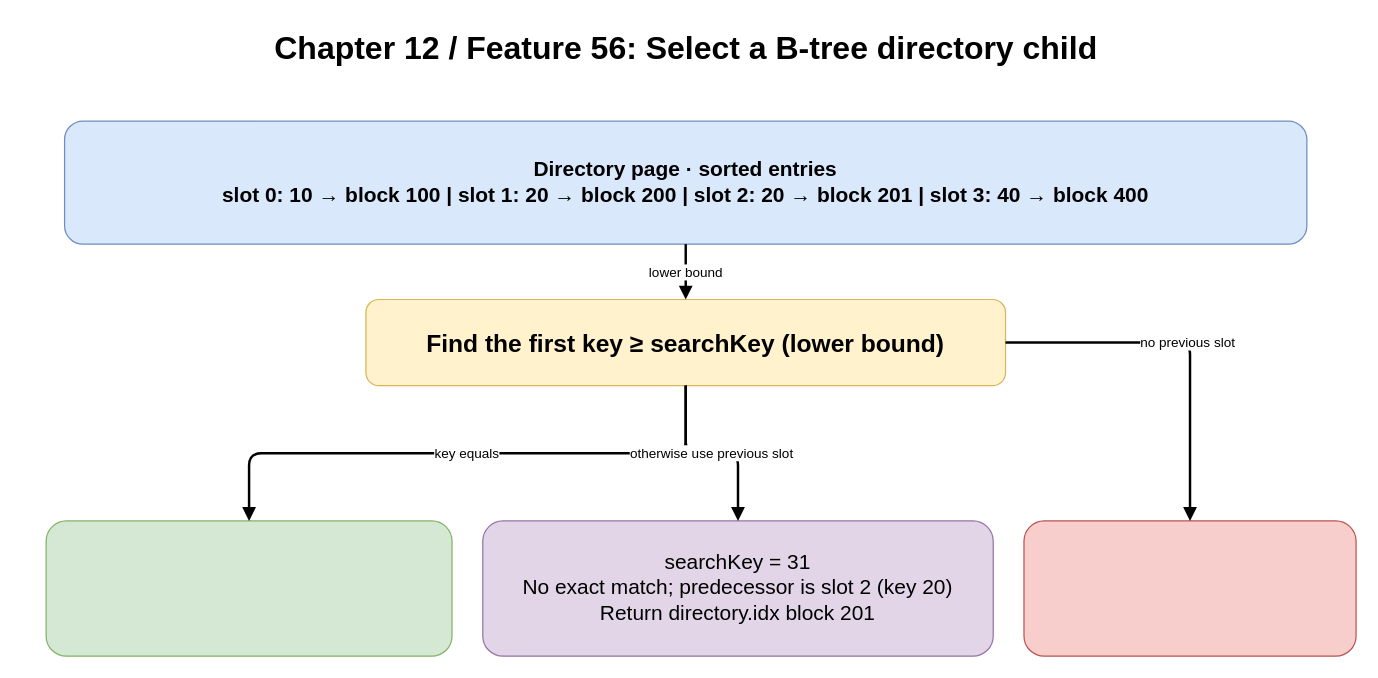
Image size: 1378x678. Some labels were removed from this diagram. The centre of each missing label's shape, as x and y in pixels:
searchKey = 20 First exact match is slot 1 Return directory.idx block 200: pixel 248 588
searchKey = 9 No predecessor before slot 0 Reject: minimum-key entry is required: pixel 1189 588
